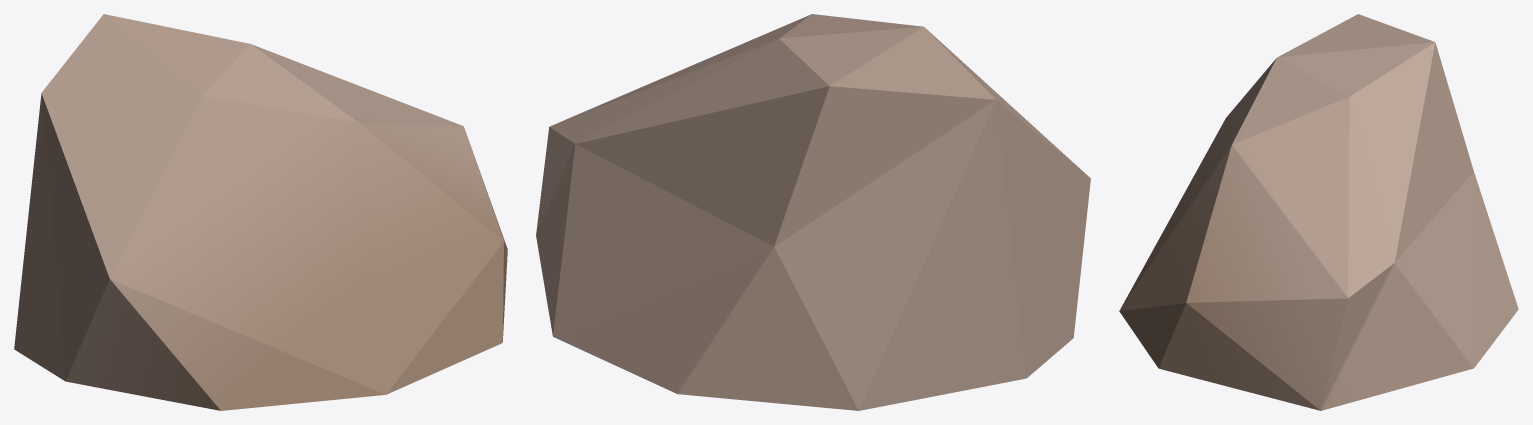
Rendered from Stone 2.glb.
3 renders of one model, left to right at view 1: azimuth 30°, elevation 25°; view 2: azimuth 150°, elevation 25°; view 3: azimuth 270°, elevation 25°, orthographic. The views are drawn at different scales.
Visible parts, largest first — view 1: Stone 2; view 2: Stone 2; view 3: Stone 2.
Part boxes in pixels (bbox=[...]): Stone 2: bbox=[14, 14, 507, 410]; Stone 2: bbox=[536, 14, 1090, 410]; Stone 2: bbox=[1119, 14, 1518, 410].
Size of what is drawn, in the model's own units: 4.05 by 2.33 by 3.48.
1 material, 1 textured.
